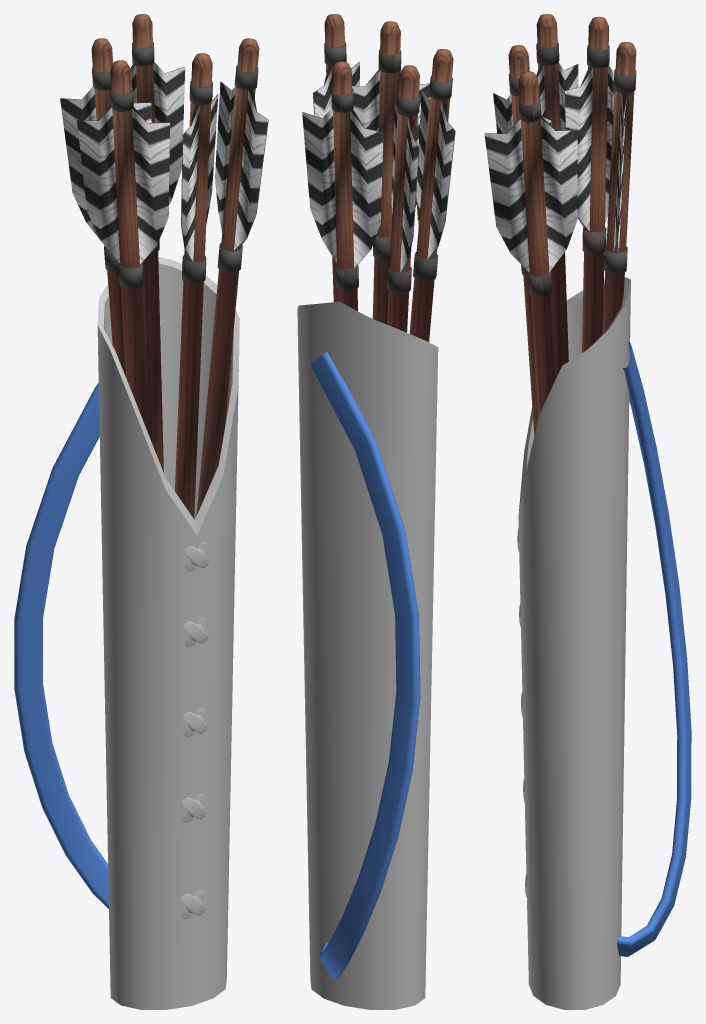
Rendered from quiver.fbx.
The picture shows the model from 3 angles, left to right: view 1: azimuth 30°, elevation 25°; view 2: azimuth 150°, elevation 25°; view 3: azimuth 270°, elevation 25°; orthographic projection.
Parts seen in each view (by area): view 1: quiver, pijl.003, belt, pijl.001, pijl.004, pijl, pijl.002; view 2: quiver, belt, pijl, pijl.003, pijl.002, pijl.004, pijl.001; view 3: quiver, pijl.001, belt, pijl.002, pijl, pijl.003, pijl.004.
Boxes of the visible parts, box(x1,y1,x2,y2) form: quiver: box(97, 257, 239, 1009); pijl.003: box(76, 60, 170, 436); belt: box(14, 383, 108, 908); pijl.001: box(196, 38, 268, 516); pijl.004: box(175, 53, 218, 518); pijl: box(130, 14, 185, 472); pijl.002: box(60, 38, 151, 376); quiver: box(297, 301, 438, 1009); belt: box(310, 352, 420, 978); pijl: box(302, 61, 383, 310); pijl.003: box(409, 49, 455, 342); pijl.002: box(387, 65, 419, 332); pijl.004: box(352, 21, 429, 324); pijl.001: box(312, 14, 359, 301); quiver: box(518, 277, 630, 1009); pijl.001: box(484, 71, 577, 418); belt: box(617, 341, 691, 956); pijl.002: box(564, 16, 614, 352); pijl: box(602, 42, 636, 334); pijl.003: box(536, 14, 578, 378); pijl.004: box(493, 45, 551, 435).
Bounding box in the file's own units: 19.69 × 106 × 21.2.
